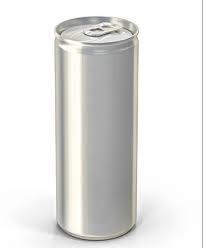can: (54, 12, 139, 242)
